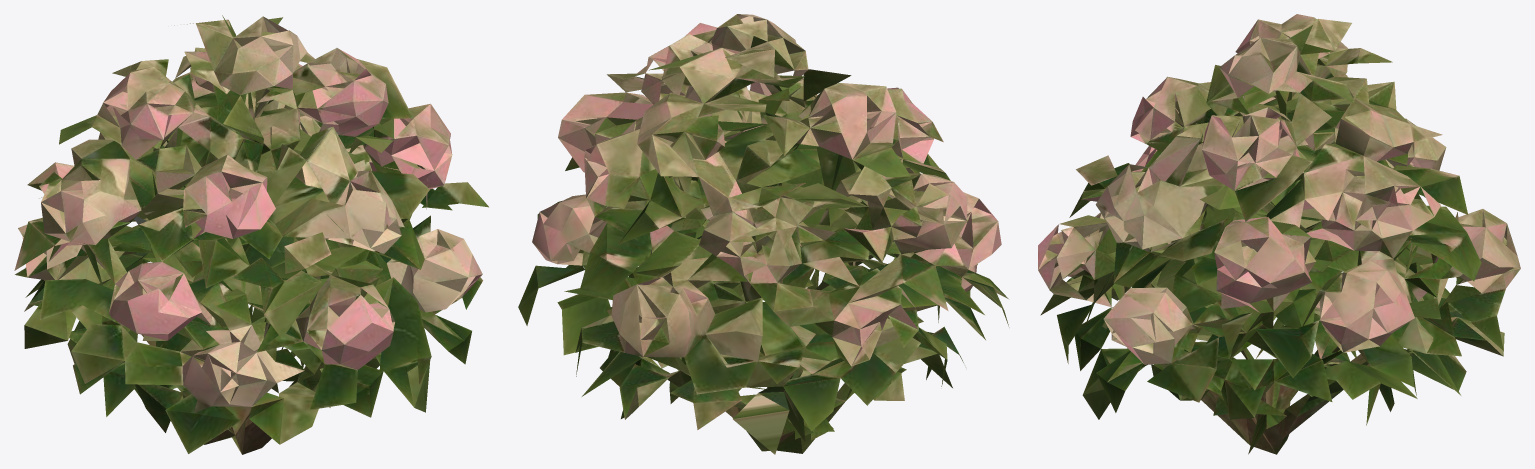
File: VEG-010.glb
The picture shows the model from 3 angles, left to right: view 1: azimuth 30°, elevation 25°; view 2: azimuth 150°, elevation 25°; view 3: azimuth 270°, elevation 25°; orthographic projection. The views are drawn at different scales.
Parts seen in each view (by area): view 1: VEG-010_LOD0; view 2: VEG-010_LOD0; view 3: VEG-010_LOD0.
Part boxes in pixels (left/top/right/bottom): VEG-010_LOD0: left=14, top=15, right=488, bottom=454; VEG-010_LOD0: left=518, top=14, right=1009, bottom=454; VEG-010_LOD0: left=1038, top=14, right=1520, bottom=454.
Size of what is drawn, in the model's own units: 1.5 by 1.4 by 1.44.
1 material, 1 textured.
